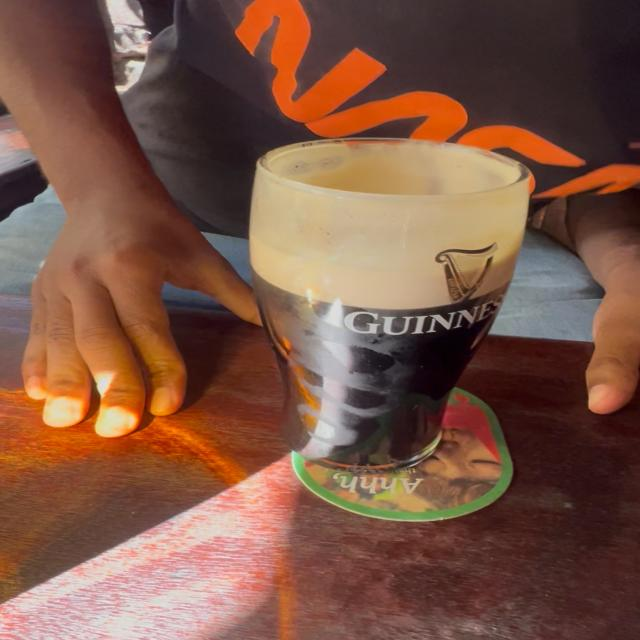too_high_glass: (250, 137, 536, 499)
